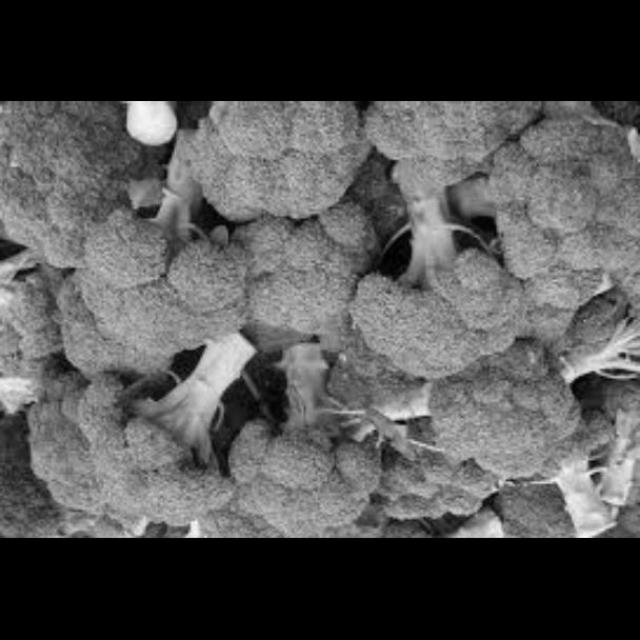broccoli: (9, 102, 639, 536)
